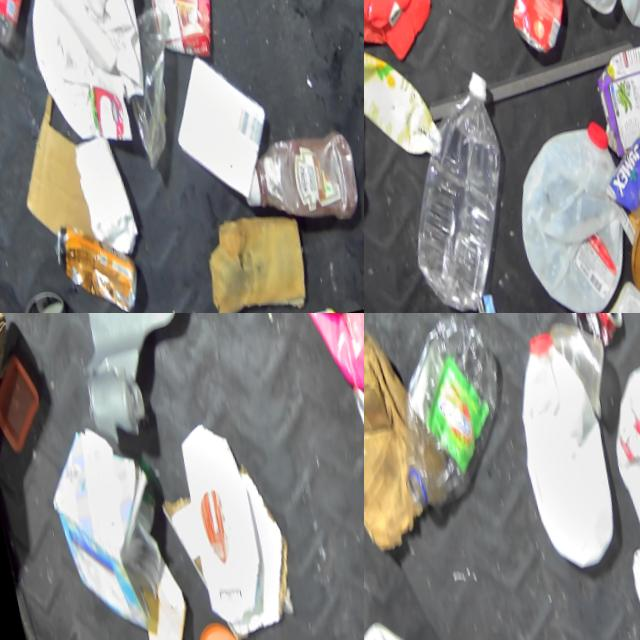can: (40, 213, 136, 313), (497, 0, 574, 58), (343, 357, 364, 460), (557, 313, 621, 340)
milk_jug: (504, 331, 619, 579), (495, 115, 637, 313), (16, 0, 151, 146), (600, 353, 640, 568)
plastic_bottle: (378, 61, 529, 306), (371, 313, 512, 500)
